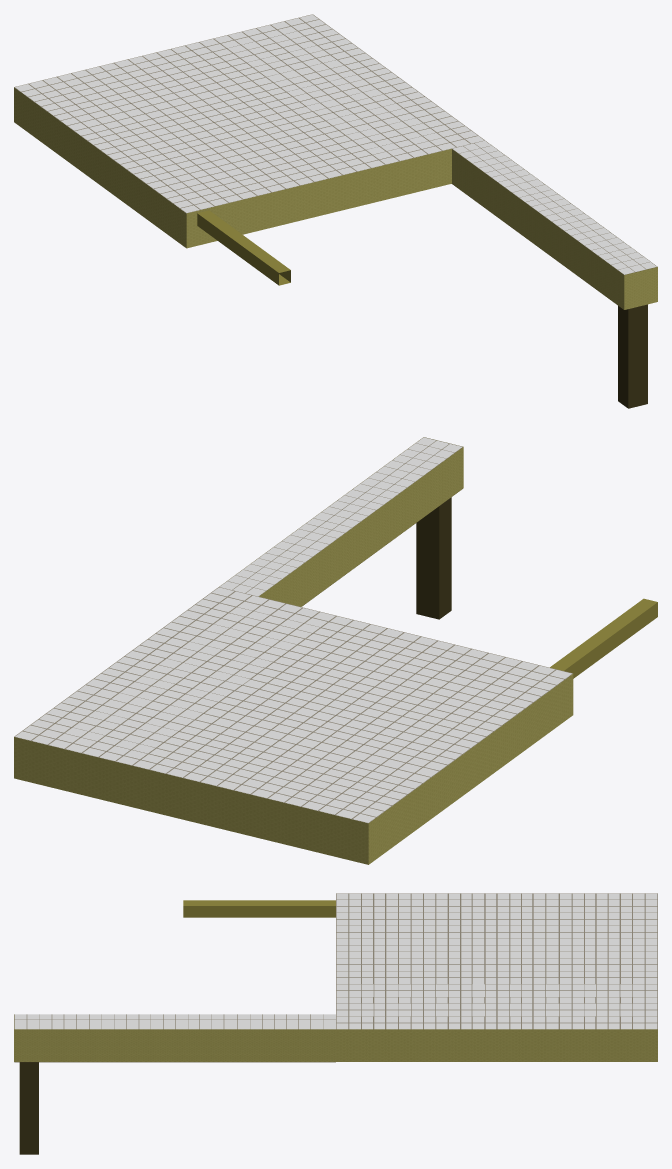
File: Backrooms Packed.fbx
The picture shows the model from 3 angles, top to bottom: view 1: azimuth 30°, elevation 25°; view 2: azimuth 150°, elevation 25°; view 3: azimuth 270°, elevation 25°; orthographic projection. The views are drawn at different scales.
Visible parts, largest first — view 1: Celing, Big Square_Wall Paper, Celing.001, Short Hallway_Wall Paper, Hallway Celing, Hallway Carpet, Vent All Sizes, Hallway Celing.002; view 2: Celing, Big Square_Wall Paper, Celing.001, Hallway Celing, Short Hallway_Wall Paper, Hallway Carpet, Vent All Sizes, Hallway Celing.002; view 3: Celing, Celing.001, Short Hallway_Wall Paper, Big Square_Wall Paper, Hallway Celing, Vent All Sizes, Hallway Carpet, Hallway Celing.002.
Part boxes in pixels (x1,y1,x2,y2): Celing: [15, 14, 484, 212]; Big Square_Wall Paper: [14, 87, 451, 248]; Celing.001: [14, 14, 484, 213]; Short Hallway_Wall Paper: [452, 149, 657, 309]; Hallway Celing: [452, 140, 656, 274]; Hallway Carpet: [455, 186, 647, 408]; Vent All Sizes: [197, 210, 290, 285]; Hallway Celing.002: [452, 141, 657, 274]; Celing: [15, 587, 571, 822]; Big Square_Wall Paper: [14, 674, 573, 864]; Celing.001: [14, 587, 572, 823]; Hallway Celing: [220, 437, 461, 596]; Short Hallway_Wall Paper: [219, 437, 463, 606]; Hallway Carpet: [303, 492, 457, 619]; Vent All Sizes: [550, 598, 657, 678]; Hallway Celing.002: [219, 437, 462, 596]; Celing: [336, 893, 657, 1029]; Celing.001: [336, 893, 657, 1029]; Short Hallway_Wall Paper: [14, 1014, 335, 1061]; Big Square_Wall Paper: [336, 1029, 657, 1061]; Hallway Celing: [14, 1014, 335, 1029]; Vent All Sizes: [183, 900, 335, 917]; Hallway Carpet: [14, 1062, 335, 1154]; Hallway Celing.002: [14, 1014, 335, 1029].
Size of the model in its own units: 4479 by 1971 by 8959.
8 materials, 1 textured.
